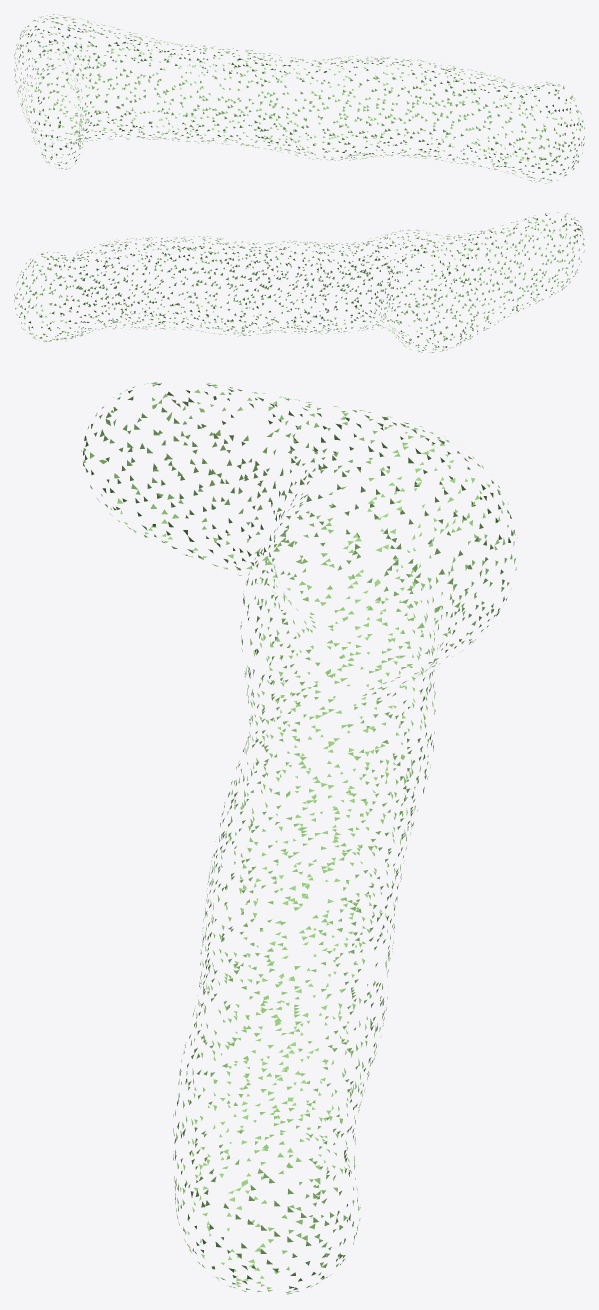
File: morph_014.glb
3 renders of one model, top to bottom at view 1: azimuth 30°, elevation 25°; view 2: azimuth 150°, elevation 25°; view 3: azimuth 270°, elevation 25°, orthographic. The views are drawn at different scales.
Size of the model in its own units: 133 by 55.76 by 48.8.
